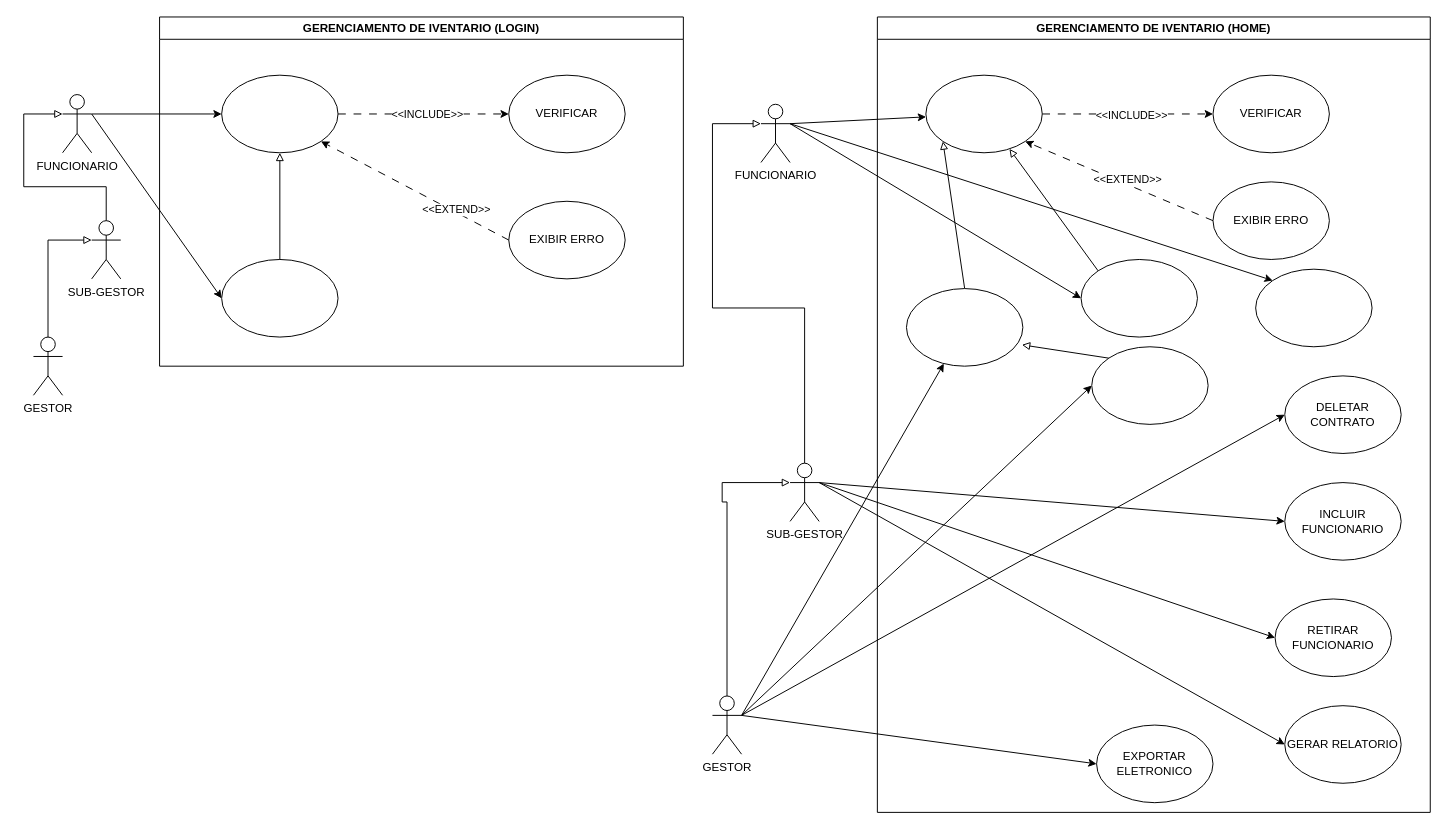
This 1447x829 diagram has some shape labels left out. Each missing label, with the centre of its shape:
"CADASTRAR CONTRATO" belongs at (x=964, y=327).
"CADASTRAR ELETRONICO" belongs at (x=983, y=113).
"DELETAR ELETRONICO" belongs at (x=1313, y=307).
"EDITAR CONTRATO" belongs at (x=1149, y=385).
"EDITAR ELETRONICO" belongs at (x=1138, y=298).
"REALIZAR CADASTRO" belongs at (x=279, y=298).
"REALIZAR LOGIN" belongs at (x=279, y=113).
